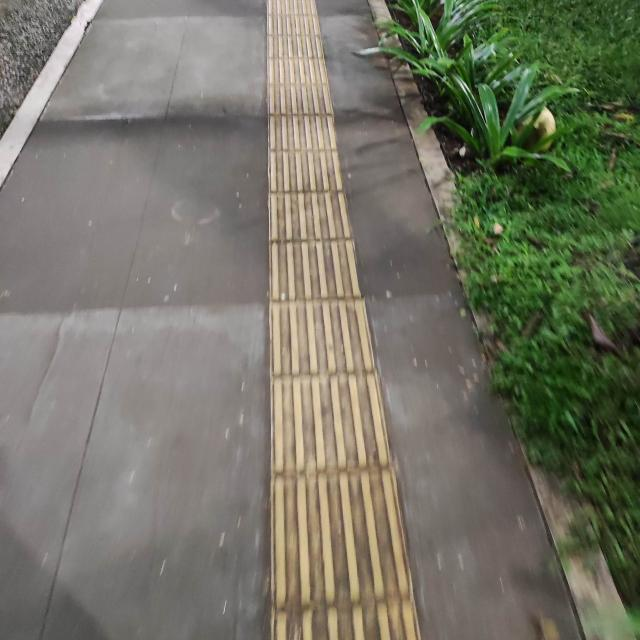lurus: (245, 0, 393, 640)
